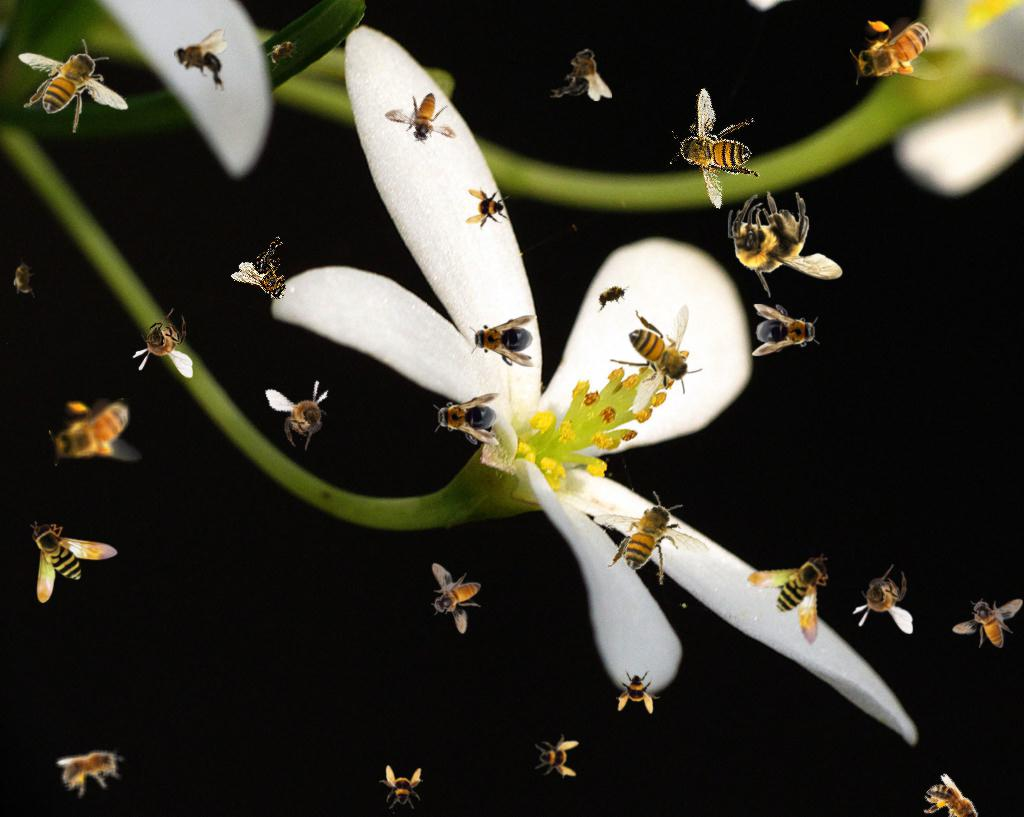Bee: (644, 73, 785, 219), (589, 483, 716, 595), (728, 191, 843, 298), (18, 39, 129, 133), (609, 304, 703, 415), (745, 552, 843, 654), (382, 77, 470, 162), (30, 521, 118, 603), (264, 370, 345, 458), (228, 233, 311, 315), (850, 17, 943, 85), (49, 398, 142, 466), (53, 736, 133, 803), (852, 564, 913, 634), (132, 308, 193, 378), (915, 771, 995, 817), (952, 598, 1023, 648), (431, 563, 481, 634), (752, 304, 820, 356), (433, 393, 501, 445), (469, 315, 537, 367), (174, 29, 227, 91), (550, 48, 612, 101), (379, 765, 423, 809), (465, 187, 509, 231), (616, 670, 660, 714), (535, 734, 579, 778), (261, 32, 307, 72), (589, 278, 635, 314), (13, 258, 35, 298)
